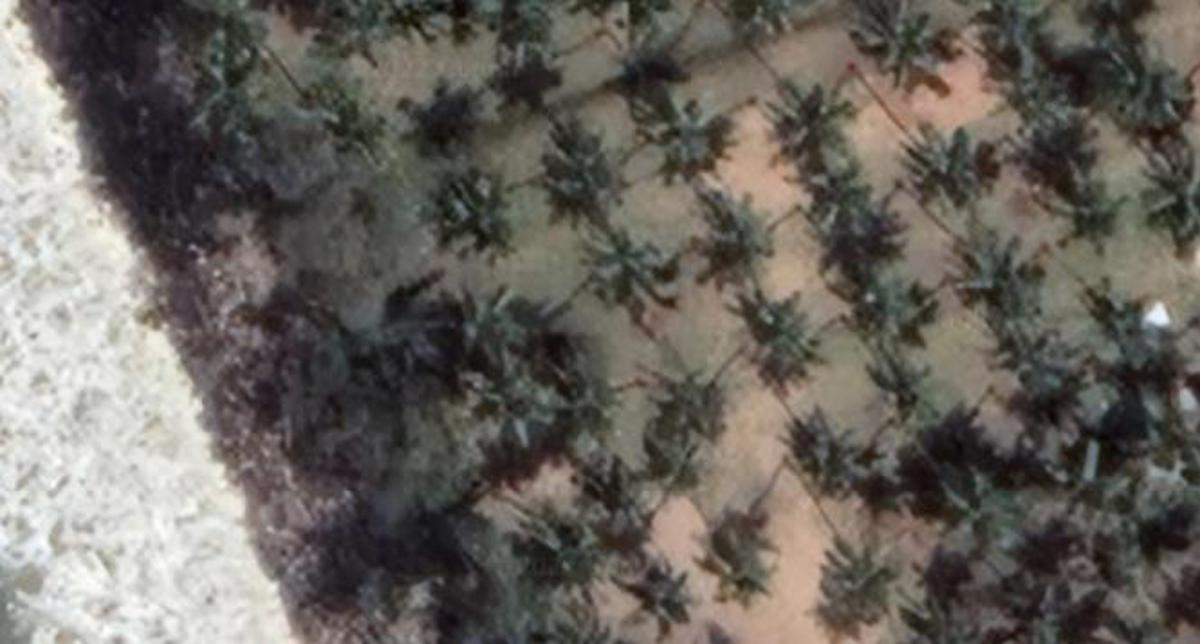coconut: (1003, 346, 1104, 458), (638, 75, 741, 184), (914, 108, 1010, 223), (810, 160, 911, 265), (842, 254, 949, 353), (808, 539, 913, 638), (535, 115, 631, 223), (415, 165, 514, 265), (1088, 283, 1181, 389), (1017, 84, 1115, 184), (1095, 41, 1192, 140), (729, 288, 826, 386), (463, 351, 557, 452), (1044, 431, 1136, 533), (687, 182, 772, 292), (418, 281, 525, 368), (923, 470, 1030, 557), (947, 223, 1039, 321), (573, 454, 667, 548), (777, 418, 880, 503), (584, 221, 676, 315), (772, 84, 862, 176), (647, 357, 736, 447), (487, 0, 573, 92), (304, 84, 396, 169), (858, 0, 954, 77), (1062, 167, 1142, 259), (514, 517, 602, 598), (867, 339, 947, 427), (304, 0, 415, 63), (972, 0, 1062, 77), (707, 517, 786, 600), (626, 557, 694, 634)
